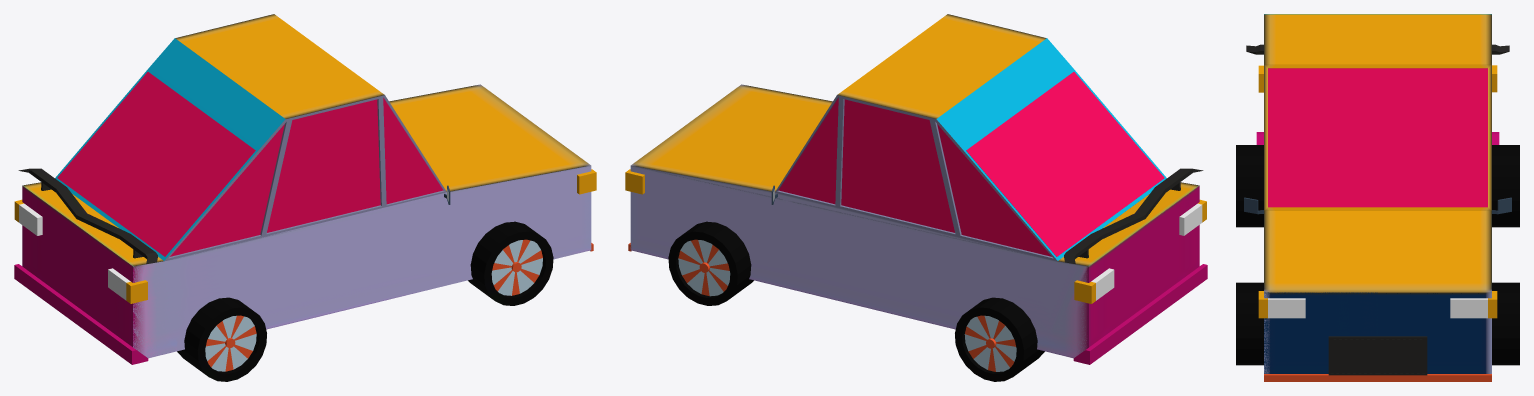
The model's file is Car2.fbx.
3 renders of one model, left to right at view 1: azimuth 30°, elevation 25°; view 2: azimuth 150°, elevation 25°; view 3: azimuth 270°, elevation 25°, orthographic. The views are drawn at different scales.
Visible parts, largest first — view 1: Car, Back_Right_Wheel, Front_Right_Wheel, Cube.004; view 2: Car, Back_Left_Wheel, Front_Left_Wheel, Cube.004; view 3: Car, Front_Left_Wheel, Front_Right_Wheel, Back_Left_Wheel, Back_Right_Wheel.
Part boxes in pixels (x1,y1,x2,y2): Car: (14,14,596,364); Back_Right_Wheel: (177,297,266,381); Front_Right_Wheel: (468,221,553,305); Cube.004: (14,199,42,235); Car: (625,14,1207,364); Back_Left_Wheel: (955,297,1044,381); Front_Left_Wheel: (668,221,753,305); Cube.004: (1074,268,1114,303); Car: (1244,14,1511,381); Front_Left_Wheel: (1492,282,1519,365); Front_Right_Wheel: (1236,282,1263,365); Back_Left_Wheel: (1492,145,1519,227); Back_Right_Wheel: (1236,145,1263,227).
Size of the model in its own units: 1629 by 786 by 833.
